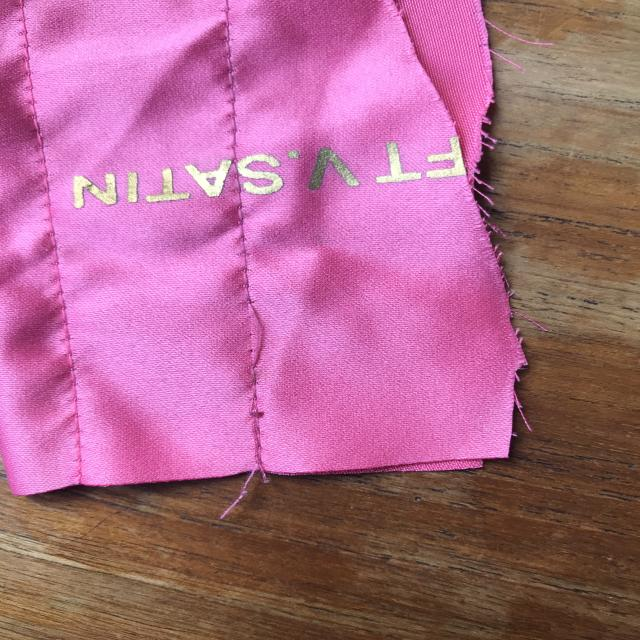skip: (215, 291, 283, 379)
